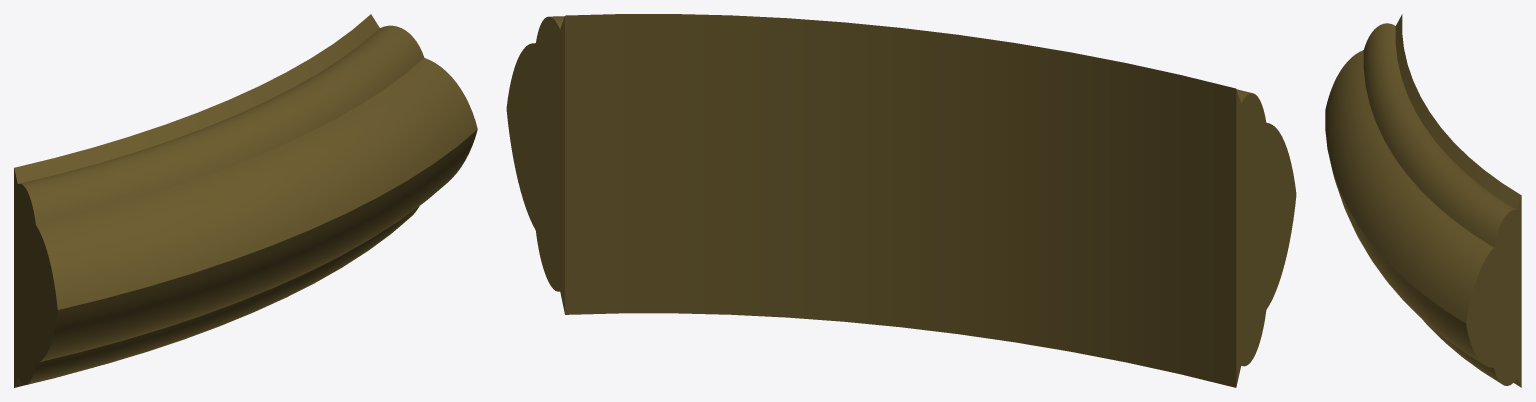
The model's file is original-73.obj.
3 renders of one model, left to right at view 1: azimuth 30°, elevation 25°; view 2: azimuth 150°, elevation 25°; view 3: azimuth 270°, elevation 25°, orthographic. The views are drawn at different scales.
Visible parts, largest first — view 1: Group21/mesh51/mesh51-geometry#mesh51-geometry; view 2: Group21/mesh51/mesh51-geometry#mesh51-geometry; view 3: Group21/mesh51/mesh51-geometry#mesh51-geometry.
Part boxes in pixels (x1=…): Group21/mesh51/mesh51-geometry#mesh51-geometry: x1=14, y1=14, x2=477, y2=387; Group21/mesh51/mesh51-geometry#mesh51-geometry: x1=506, y1=14, x2=1296, y2=387; Group21/mesh51/mesh51-geometry#mesh51-geometry: x1=1325, y1=14, x2=1521, y2=387.
Bounding box in the file's own units: 0.064 × 0.0269 × 0.0249.
